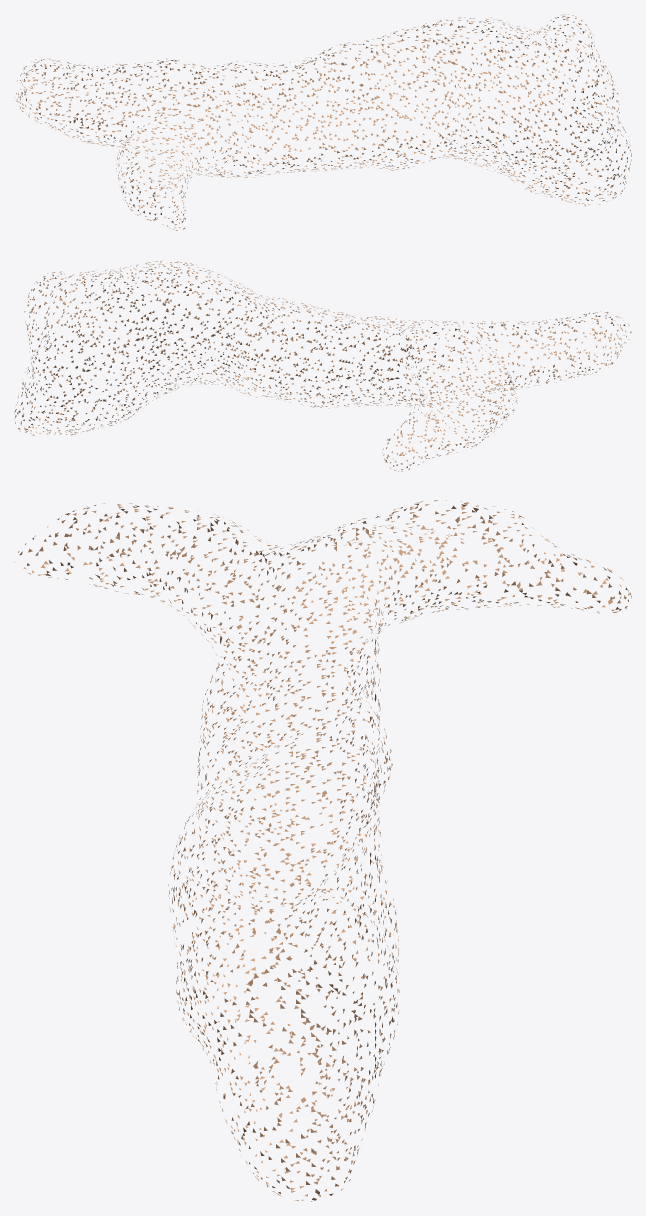
The model's file is morph_005.glb.
3 views of the same model, one above another, from view 1: azimuth 30°, elevation 25°; view 2: azimuth 150°, elevation 25°; view 3: azimuth 270°, elevation 25° (orthographic). The views are drawn at different scales.
Bounding box in the file's own units: 141 × 54.23 × 89.29.
